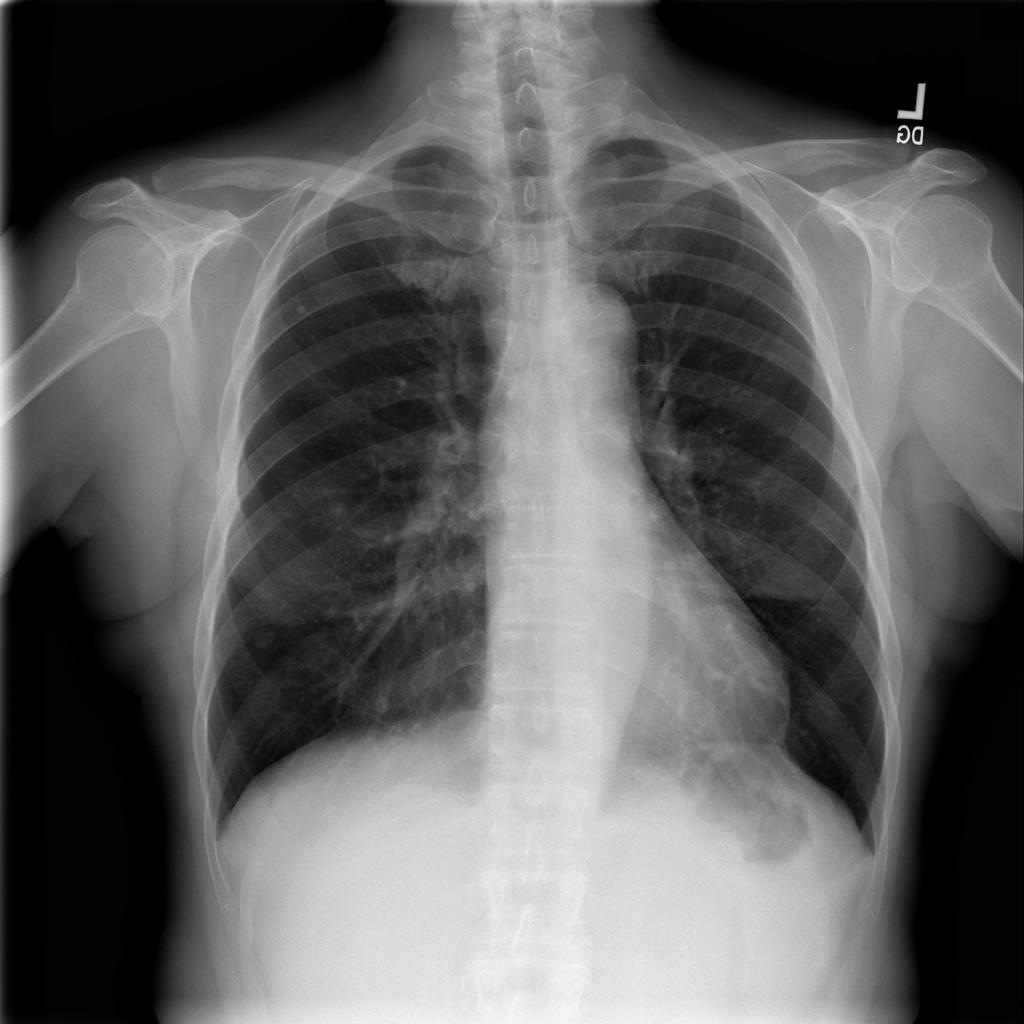nodule: (303, 476, 373, 546), (241, 608, 292, 660), (281, 283, 333, 332)
